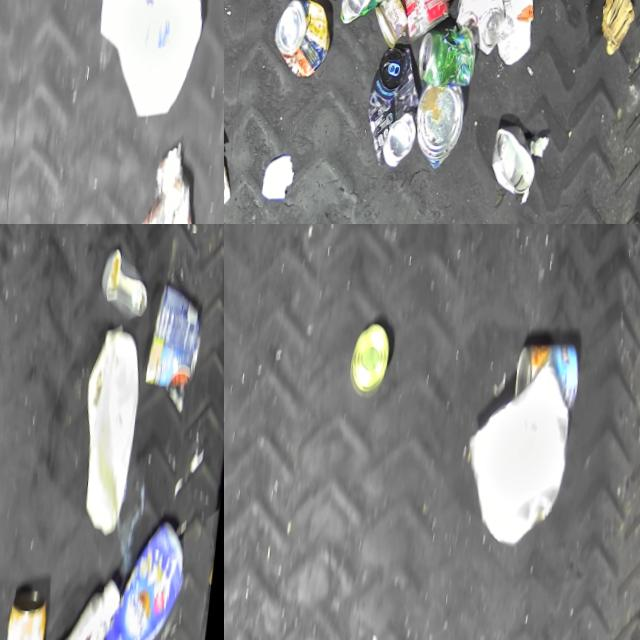can: (147, 285, 210, 416), (369, 48, 433, 170), (516, 342, 585, 417), (275, 0, 339, 79), (419, 86, 474, 172), (100, 249, 157, 325), (420, 26, 482, 90), (496, 128, 547, 202), (351, 324, 396, 399), (456, 0, 512, 58), (390, 0, 463, 42), (9, 591, 59, 640), (375, 0, 416, 49), (343, 0, 399, 25)
milk_jug: (91, 0, 217, 123), (78, 329, 152, 537)
non_white_jug: (96, 523, 196, 640)
